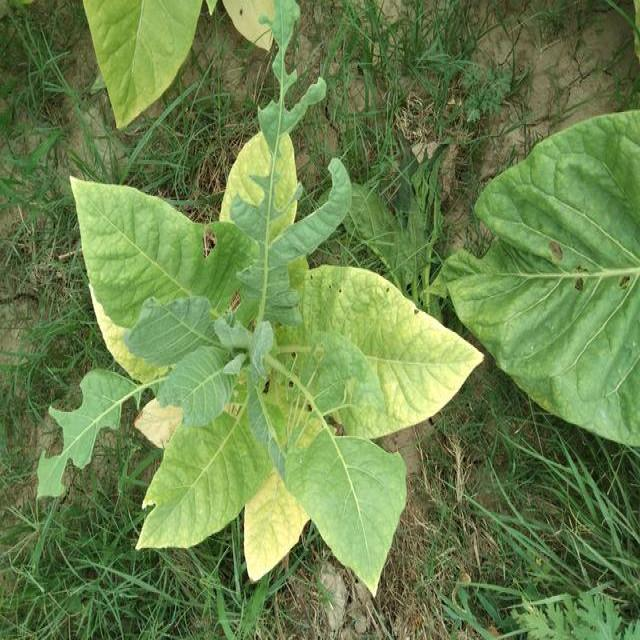crop: (70, 131, 492, 592)
